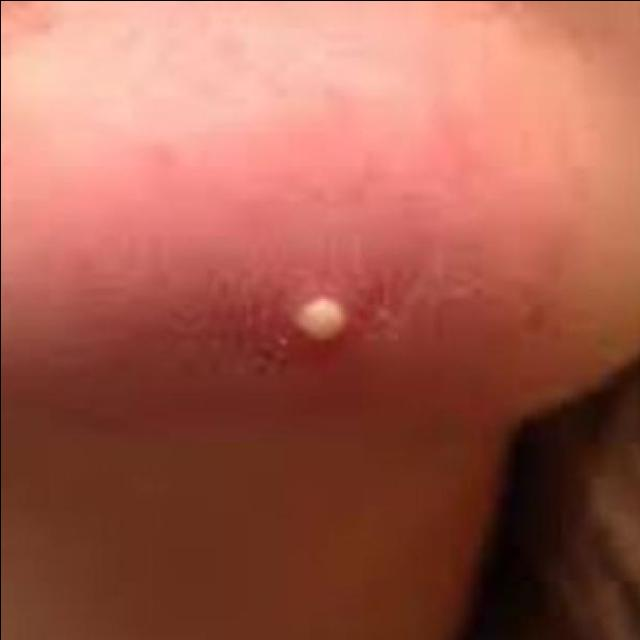pustule: (242, 272, 386, 362)
